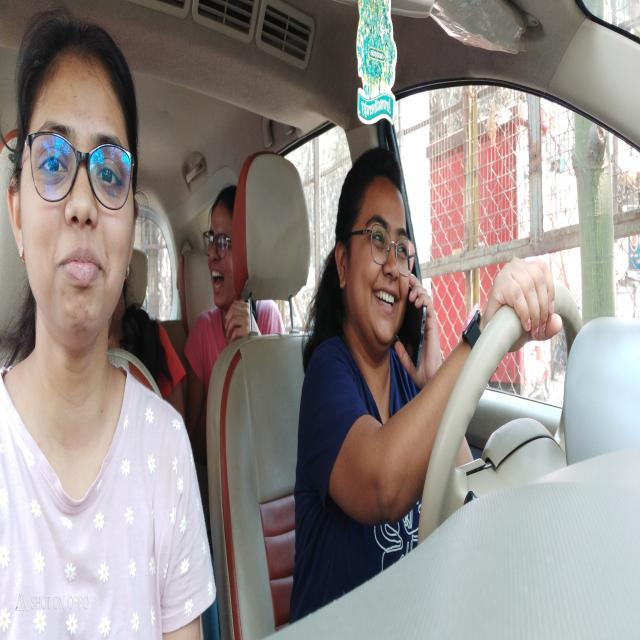mobile: (406, 280, 436, 380)
person: (9, 6, 152, 403), (330, 146, 437, 392), (196, 160, 252, 338)
